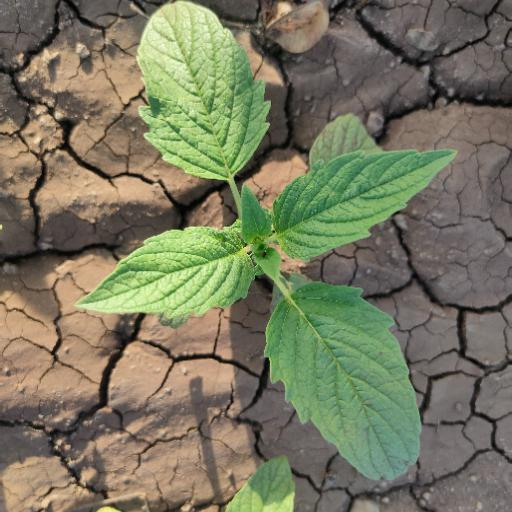crop: (70, 1, 458, 512)
